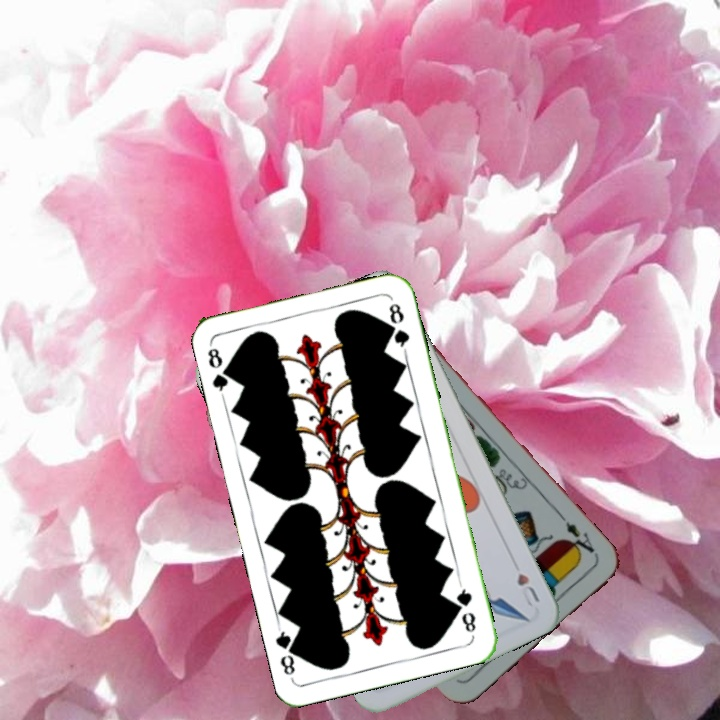EA: (557, 511, 601, 560)
G8: (203, 341, 236, 400), (452, 580, 479, 635)
HU: (513, 569, 542, 610)
